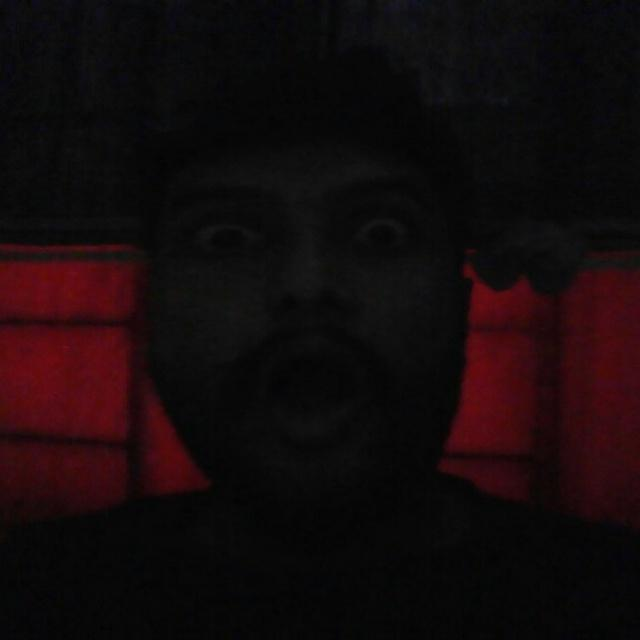Surprised: (133, 75, 495, 584)
